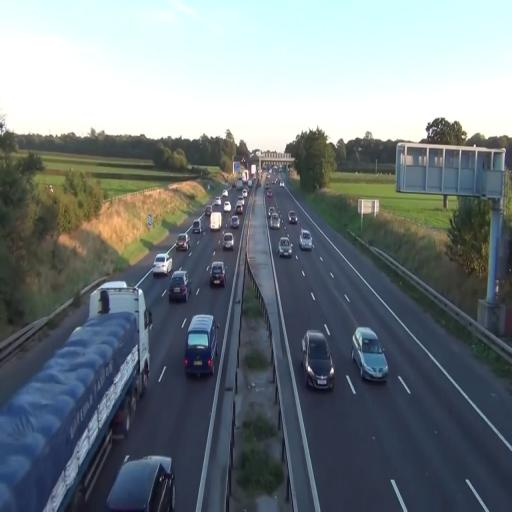vehicle: (78, 450, 175, 511), (105, 454, 175, 512), (183, 313, 219, 378), (302, 328, 335, 392), (352, 327, 389, 382), (183, 329, 216, 379), (168, 270, 188, 304), (152, 253, 172, 277), (208, 262, 226, 288), (209, 207, 223, 231), (268, 206, 282, 229), (278, 237, 294, 257), (300, 229, 313, 251), (221, 230, 235, 250), (176, 234, 190, 252)
